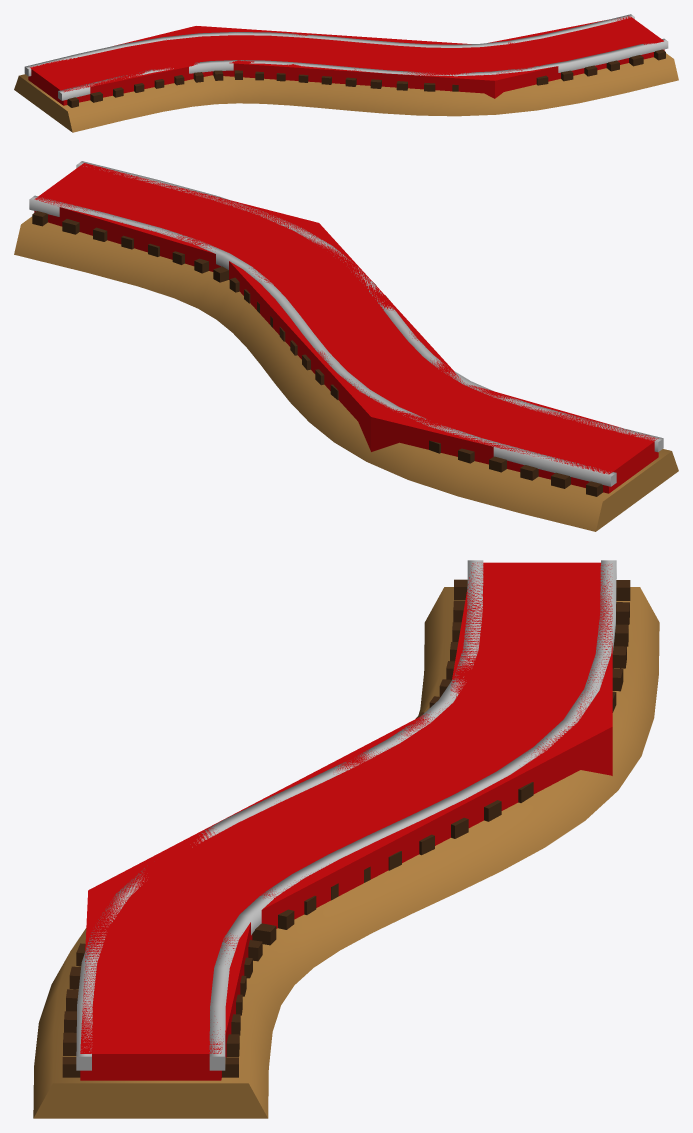
The model's file is sbend_right.fbx.
3 views of the same model, one above another, from view 1: azimuth 30°, elevation 25°; view 2: azimuth 150°, elevation 25°; view 3: azimuth 270°, elevation 25° (orthographic). The views are drawn at different scales.
Visible parts, largest first — view 1: rails, boundingBox; view 2: boundingBox, rails; view 3: boundingBox, rails.
Part boxes in pixels (<box>): rails: <box>14,14,678,132</box>; boundingBox: <box>28,16,664,105</box>; boundingBox: <box>34,163,658,493</box>; rails: <box>14,161,678,531</box>; boundingBox: <box>80,562,612,1080</box>; rails: <box>33,560,659,1118</box>.
Bounding box in the file's own units: 600 × 35 × 320.
